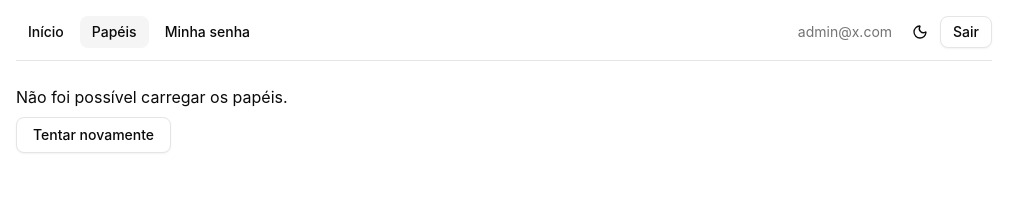
RolesList on /roles › shows error with retry
Expected: the text "Não foi possível carregar os papéis." is shown, [16,87,288,107]
Click the button "Tentar novamente" at (94, 135), box [16,117,171,153]
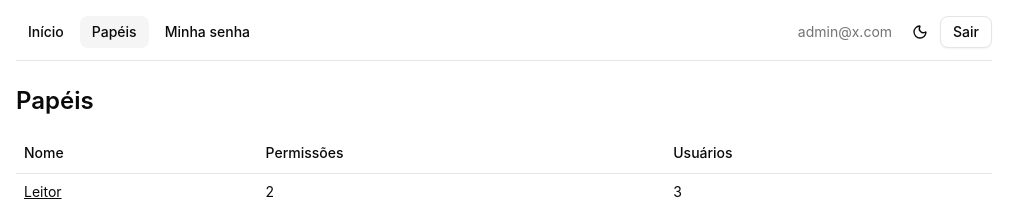
Expected: the link "Leitor" is shown, [24,182,62,200]
